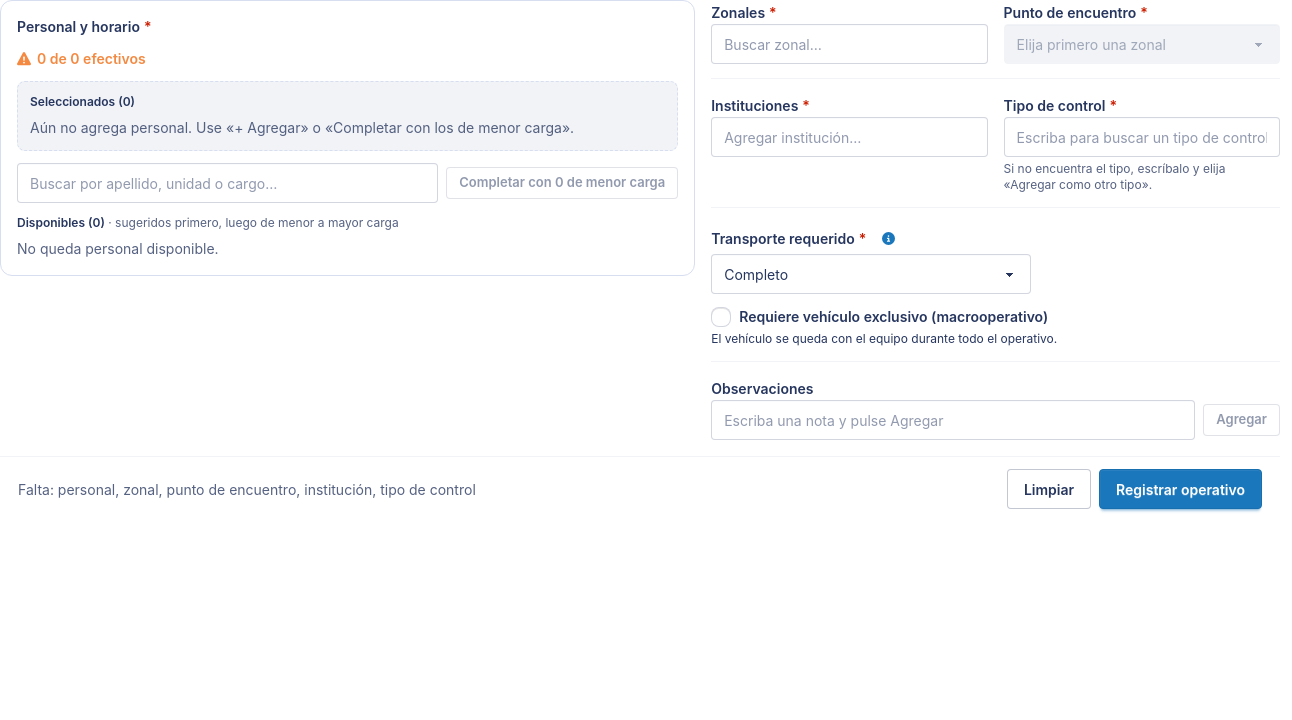
FormOperativo · el «otro tipo» va dentro del combobox › lo que no existe se agrega como ficha «OTRO ·»
Type "PATRULLA ESPECIAL" into the dropdown labelled "Tipo de control*". click: point(1142, 137)
box: [1004, 117, 1280, 157]
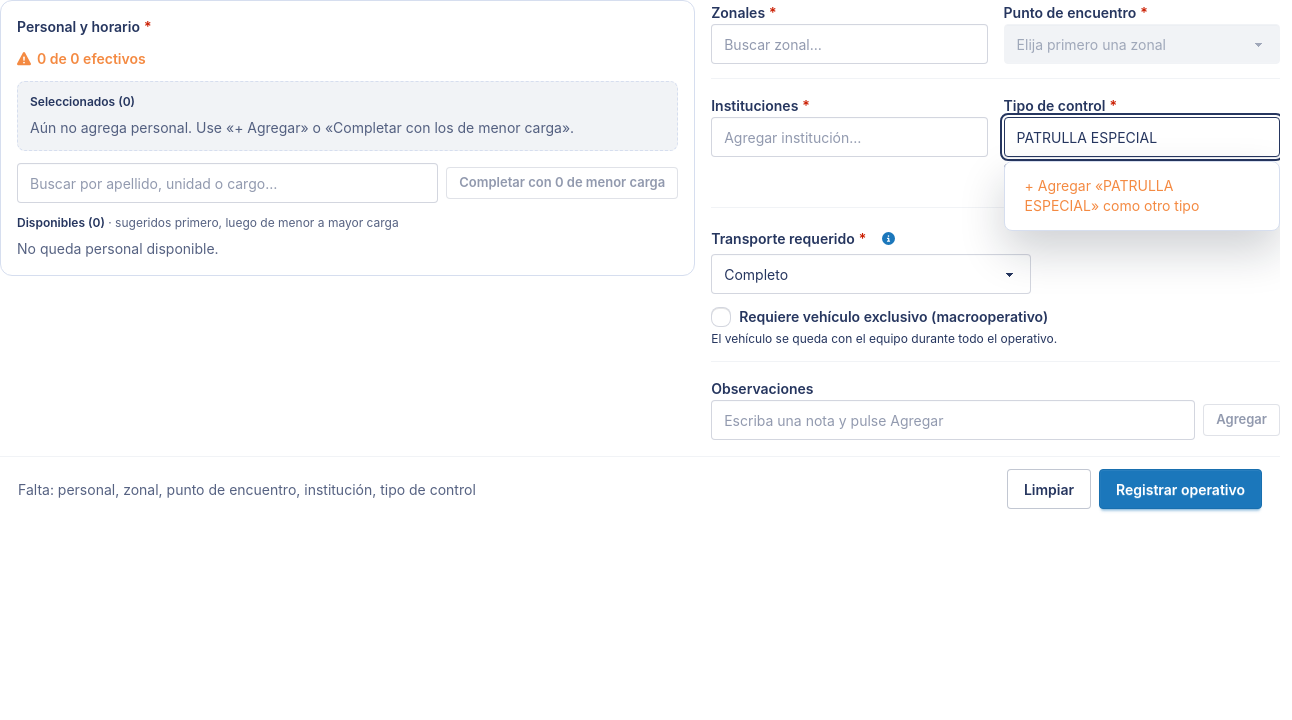
Click the button "+ Agregar «PATRULLA ESPECIAL» como otro tipo". click: point(1142, 196)
box: [1013, 170, 1271, 222]
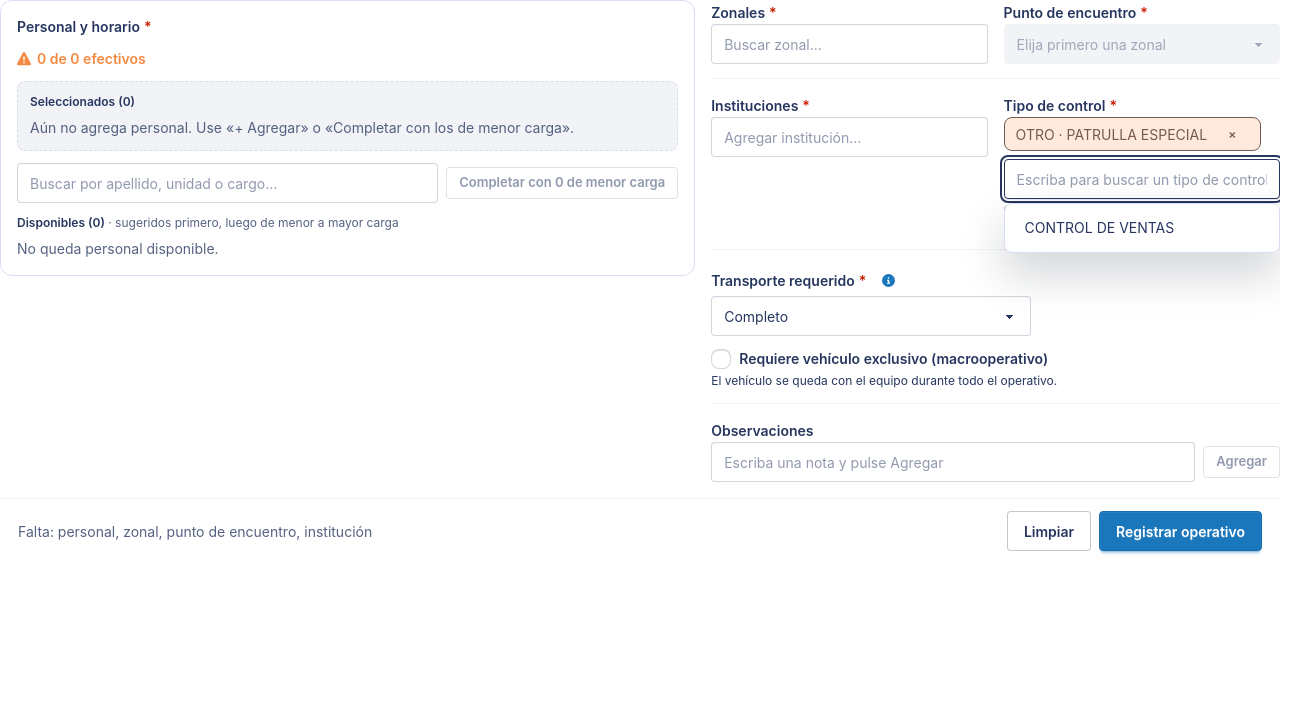
Expected: the text "OTRO · PATRULLA ESPECIAL" is shown, [1016, 124, 1207, 144]
